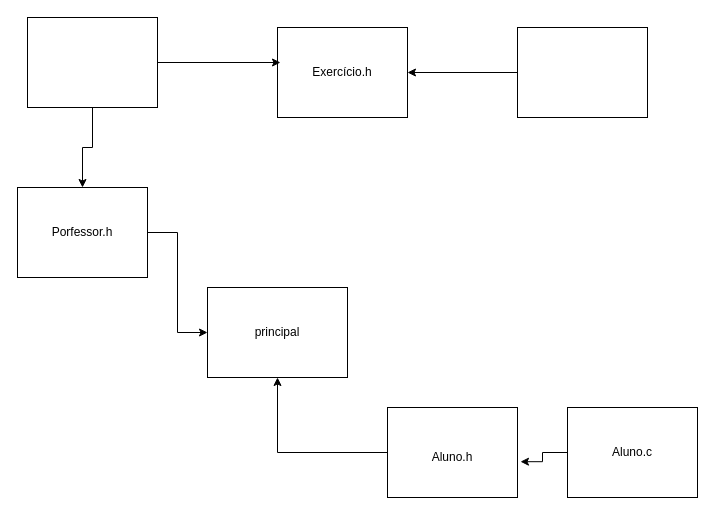
The diagram is 715 pixels wide and 515 high, and some of its shapes have lost their labels. Here are the shapes that lost their labels. From the top down, the centre of each, then its label:
At [92,62]: "Professor.c".
At [582,72]: "Exercício.c".
